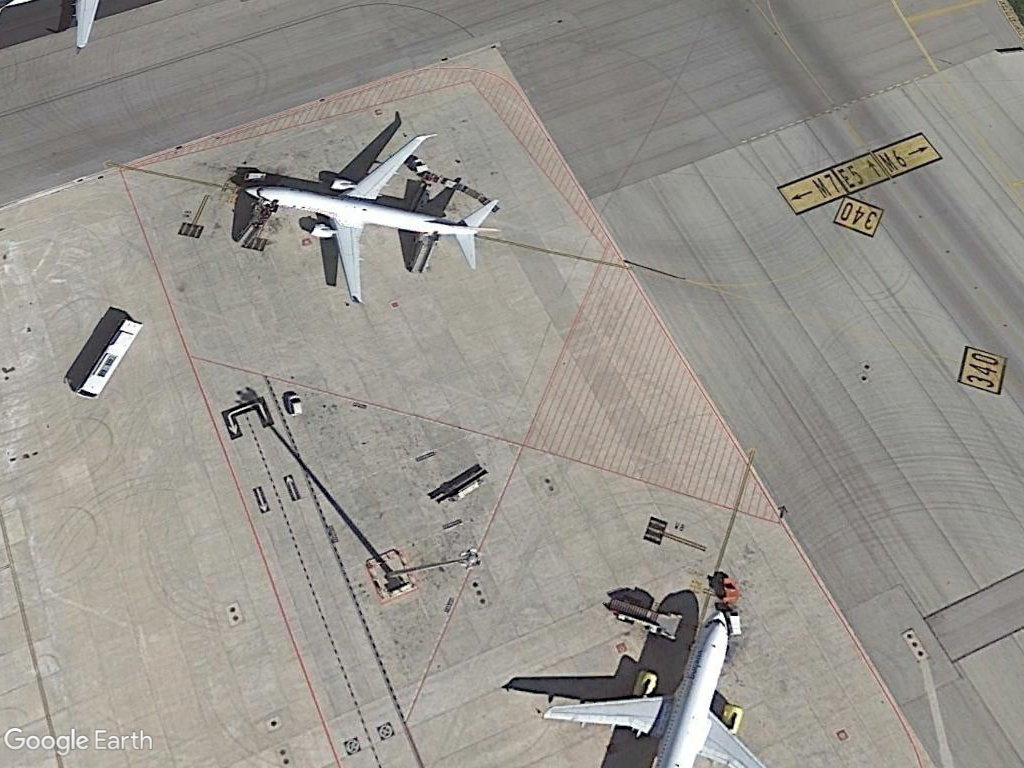airliner: (240, 121, 511, 314)
stairtruck: (598, 588, 688, 645)
